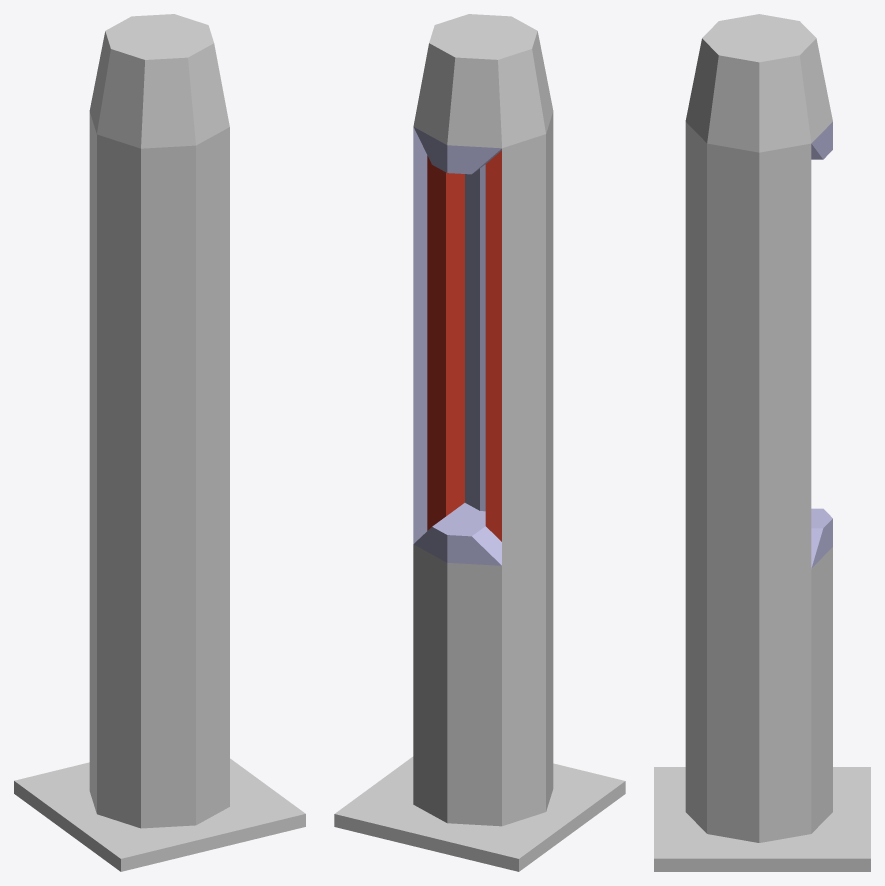
Rendered from GRIJALICA (1).fbx.
3 renders of one model, left to right at view 1: azimuth 30°, elevation 25°; view 2: azimuth 150°, elevation 25°; view 3: azimuth 270°, elevation 25°, orthographic.
Visible parts, largest first — view 1: Cylinder.001; view 2: Cylinder.001; view 3: Cylinder.001.
Part boxes in pixels (x1,y1,x2,y2): Cylinder.001: [14, 14, 305, 871]; Cylinder.001: [334, 14, 625, 871]; Cylinder.001: [654, 14, 870, 871].
Bounding box in the file's own units: 111 × 442 × 111.
